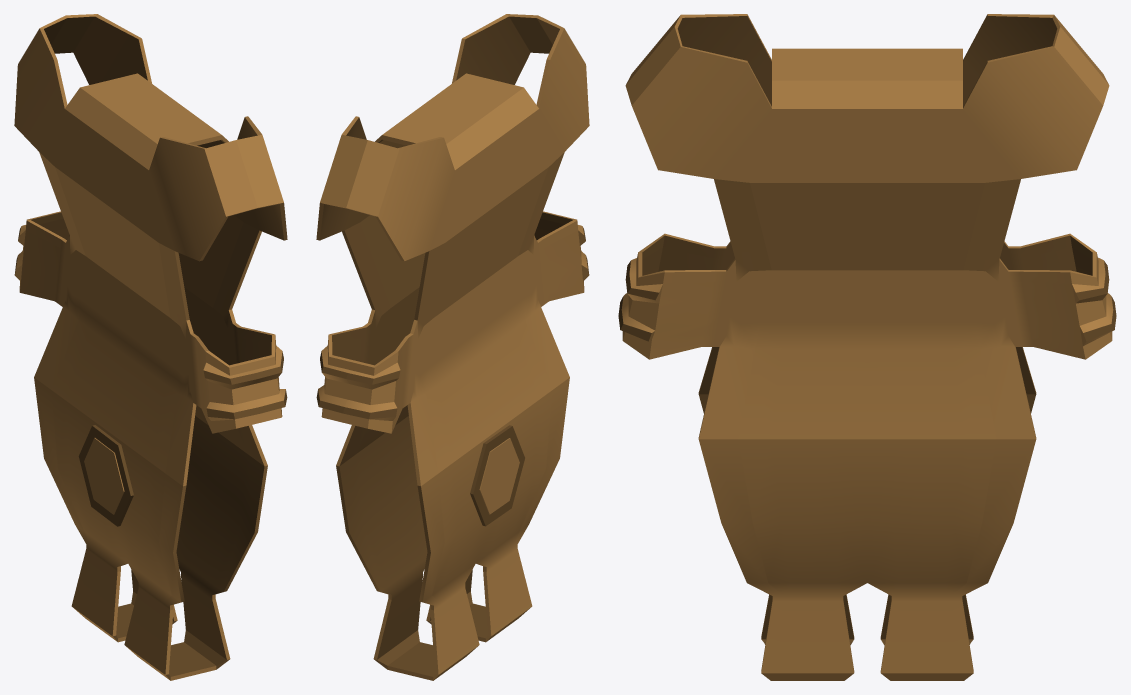
Rendered from paper_bear.fbx.
3 views of the same model, side by side, from view 1: azimuth 30°, elevation 25°; view 2: azimuth 150°, elevation 25°; view 3: azimuth 270°, elevation 25° (orthographic). The views are drawn at different scales.
Visible parts, largest first — view 1: paper_bear; view 2: paper_bear; view 3: paper_bear.
Part boxes in pixels (x1,y1,x2,y2): paper_bear: [14, 14, 287, 680]; paper_bear: [316, 14, 589, 680]; paper_bear: [618, 14, 1116, 680].
Bounding box in the file's own units: 17.25 × 102 × 72.02.
